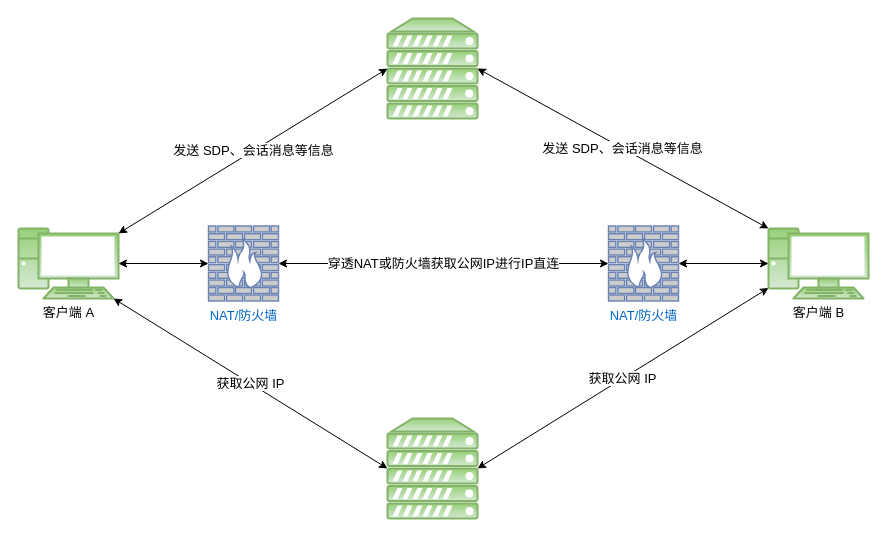
Some shapes in this 886 by 558 pixel diagram are drawn without their labels. The shapes that lost their labels are listed below. From the top down, each one's box as (x1, y1, x2, y2) in pixels, then its label:
(386, 17, 478, 119): 信令服务器
(386, 417, 478, 519): STUN / TURN 服务器
